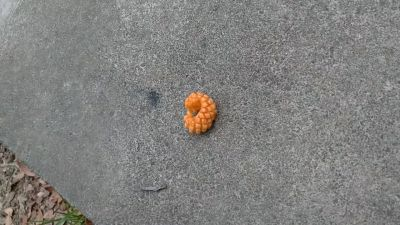eggs: (182, 88, 218, 135)
